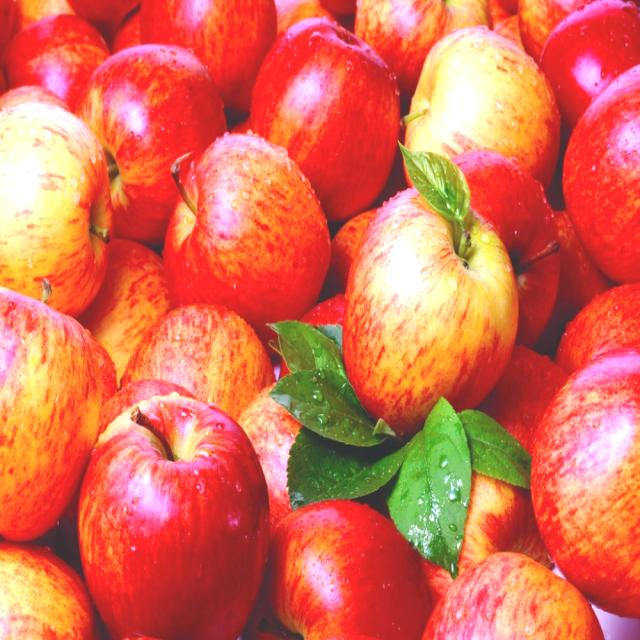apple: (327, 178, 528, 420), (86, 395, 267, 639), (168, 127, 326, 355), (60, 31, 230, 242), (244, 15, 406, 216)
